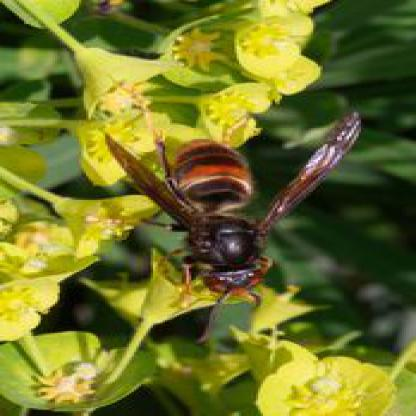Asian Hornet: (101, 104, 361, 301)
